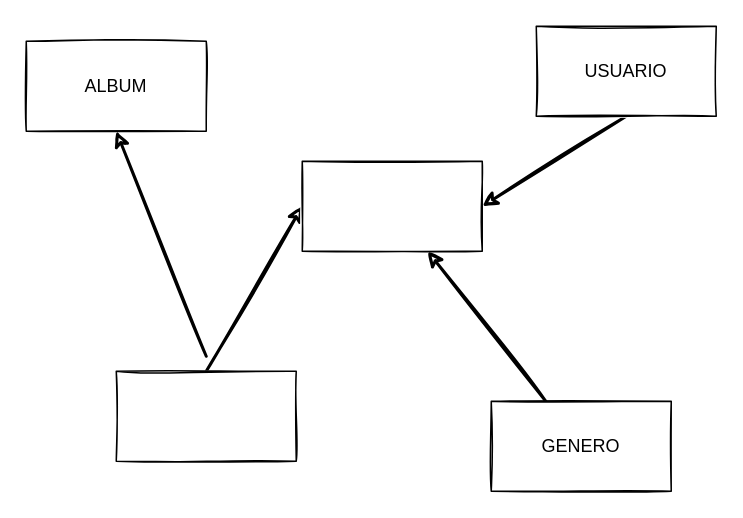
Image size: 743x518. Some labels were removed from this diagram. The box of each missing label's shape, as (x1, y1, x2, y2) in pixels:
ARTISTA: (115, 370, 296, 461)
MUSICA: (301, 160, 482, 251)
